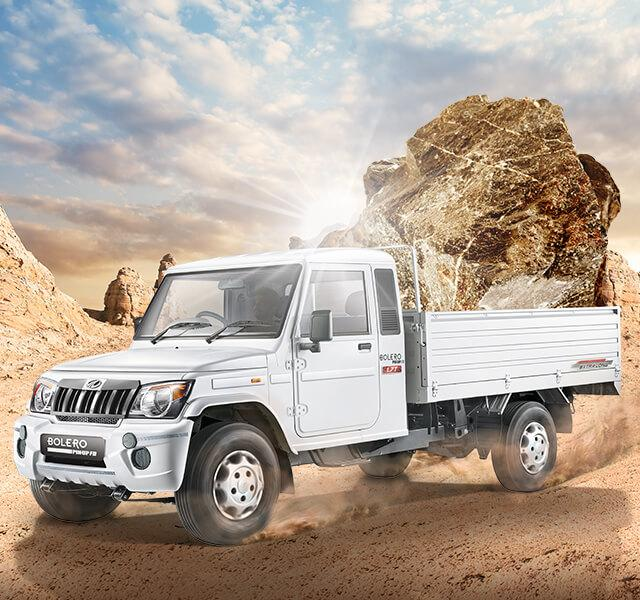truck: (12, 245, 623, 545)
